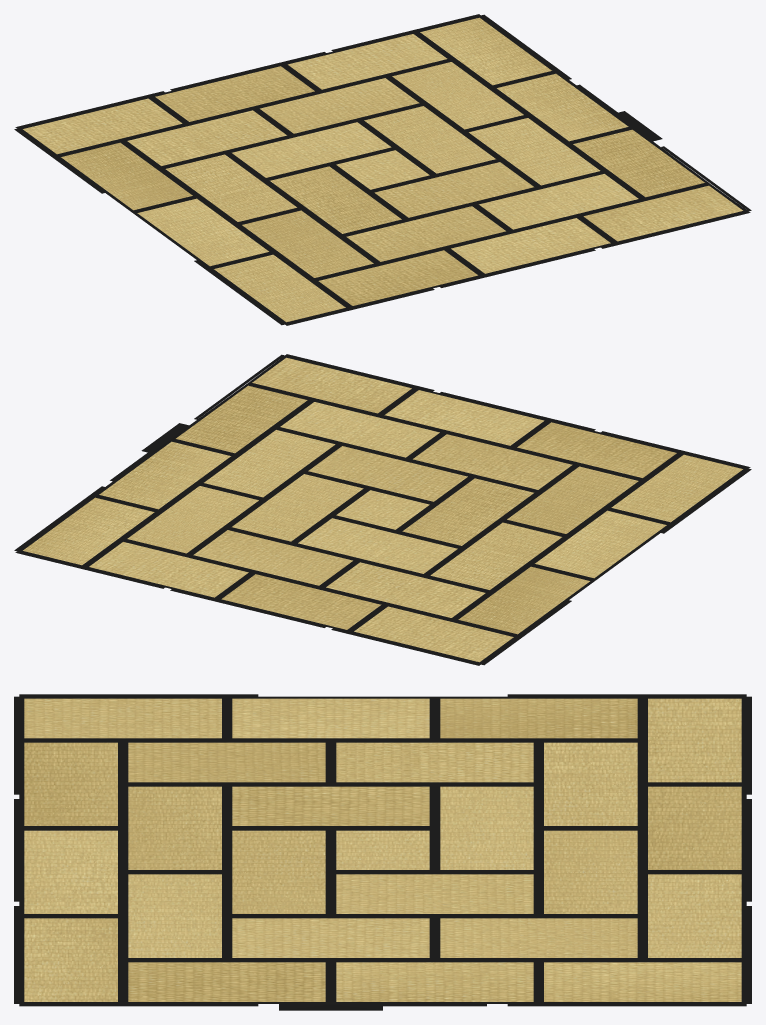
Rendered from MSH_A_Floor.glb.
3 views of the same model, one above another, from view 1: azimuth 30°, elevation 25°; view 2: azimuth 150°, elevation 25°; view 3: azimuth 270°, elevation 25° (orthographic). The views are drawn at different scales.
Parts seen in each view (by area): view 1: Floor Room A; view 2: Floor Room A; view 3: Floor Room A.
Boxes of the visible parts, x1,y1,x2,y2 form: Floor Room A: [14, 14, 751, 325]; Floor Room A: [14, 354, 751, 665]; Floor Room A: [14, 694, 751, 1010].
Size of the model in its own units: 7.2 by 0.00576 by 7.1.
Materials: 2 (1 with a texture image).
